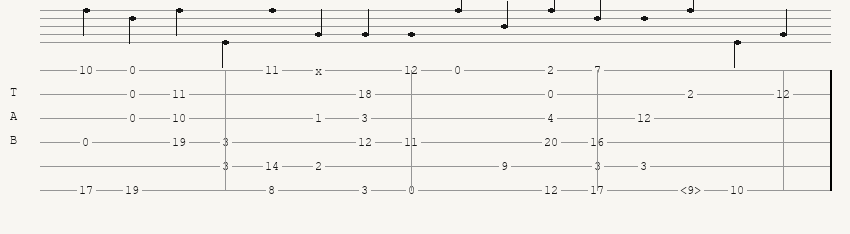0: (82, 136, 93, 148), (129, 64, 140, 76), (129, 112, 140, 124), (129, 88, 140, 100), (408, 184, 419, 196), (454, 64, 465, 76), (547, 88, 558, 100)
1: (315, 112, 326, 124)
10: (79, 64, 97, 76), (172, 112, 190, 124), (730, 184, 748, 196)
11: (172, 88, 190, 100), (265, 64, 283, 76), (404, 136, 422, 148)
12: (358, 136, 376, 148), (404, 64, 422, 76), (544, 184, 562, 196), (637, 112, 655, 124), (776, 88, 794, 100)
14: (265, 160, 283, 172)
16: (590, 136, 608, 148)
17: (79, 184, 97, 196), (590, 184, 608, 196)
18: (358, 88, 376, 100)
19: (125, 184, 143, 196), (172, 136, 190, 148)
2: (315, 160, 326, 172), (547, 64, 558, 76), (687, 88, 698, 100)
20: (544, 136, 562, 148)
3: (222, 136, 233, 148), (222, 160, 233, 172), (361, 112, 372, 124), (361, 184, 372, 196), (594, 160, 605, 172), (640, 160, 651, 172)
4: (547, 112, 558, 124)
7: (594, 64, 605, 76)
8: (268, 184, 279, 196)
9: (501, 160, 512, 172)
harmonic: (680, 184, 705, 197)
x: (315, 65, 326, 75)
